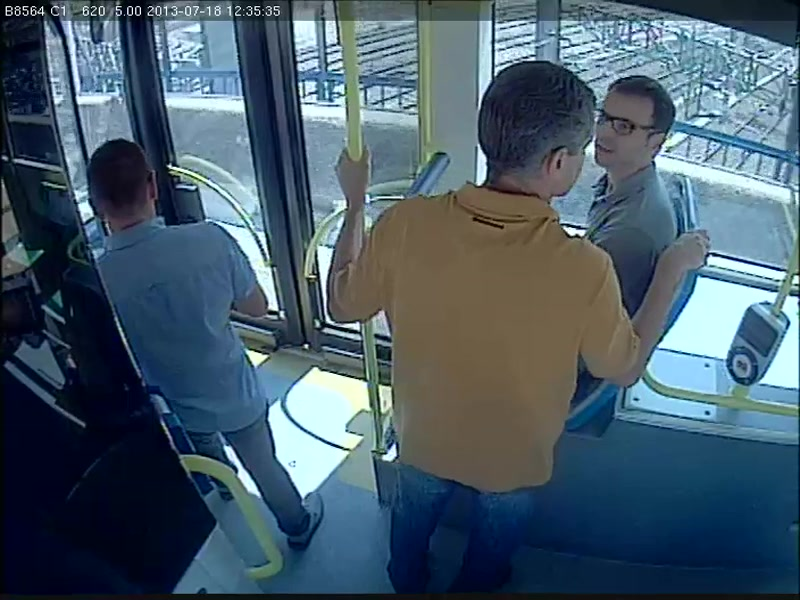Head: (473, 54, 601, 206), (590, 62, 682, 181), (80, 138, 160, 235)
